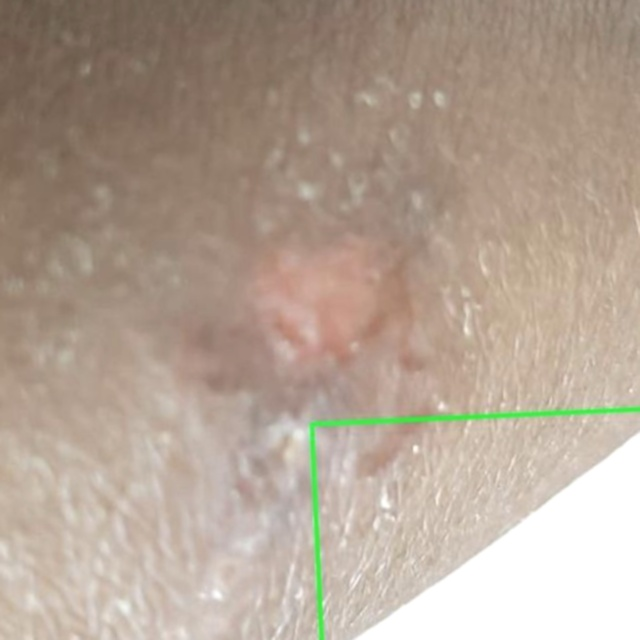Eczema: (312, 409, 639, 639)
